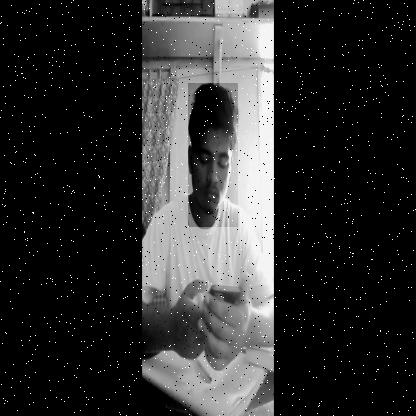Normal: (188, 83, 238, 227)
